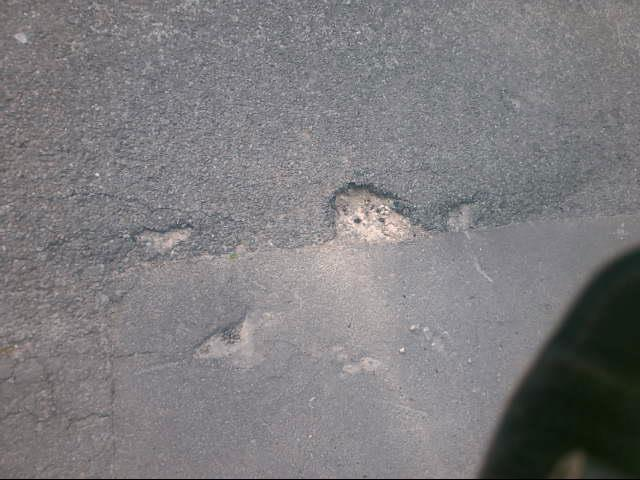pothole: (324, 180, 424, 243), (124, 221, 197, 256)
